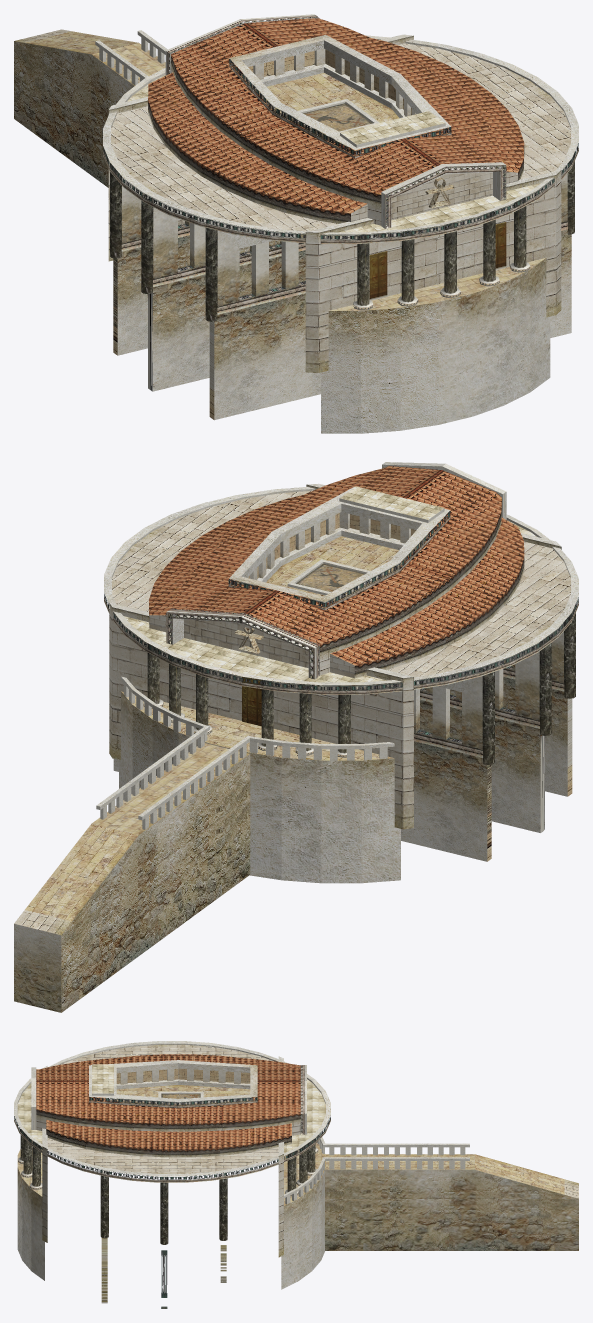
File: kart_superdock.dae
3 views of the same model, one above another, from view 1: azimuth 30°, elevation 25°; view 2: azimuth 150°, elevation 25°; view 3: azimuth 270°, elevation 25° (orthographic). The views are drawn at different scales.
Parts seen in each view (by area): view 1: Naval_Yard; view 2: Naval_Yard; view 3: Naval_Yard.
Boxes of the visible parts, x1=… form: Naval_Yard: x1=14, y1=14, x2=578, y2=433; Naval_Yard: x1=14, y1=462, x2=578, y2=1012; Naval_Yard: x1=14, y1=1041, x2=578, y2=1308.
Size of the model in its own units: 41.64 by 23.85 by 73.37.
